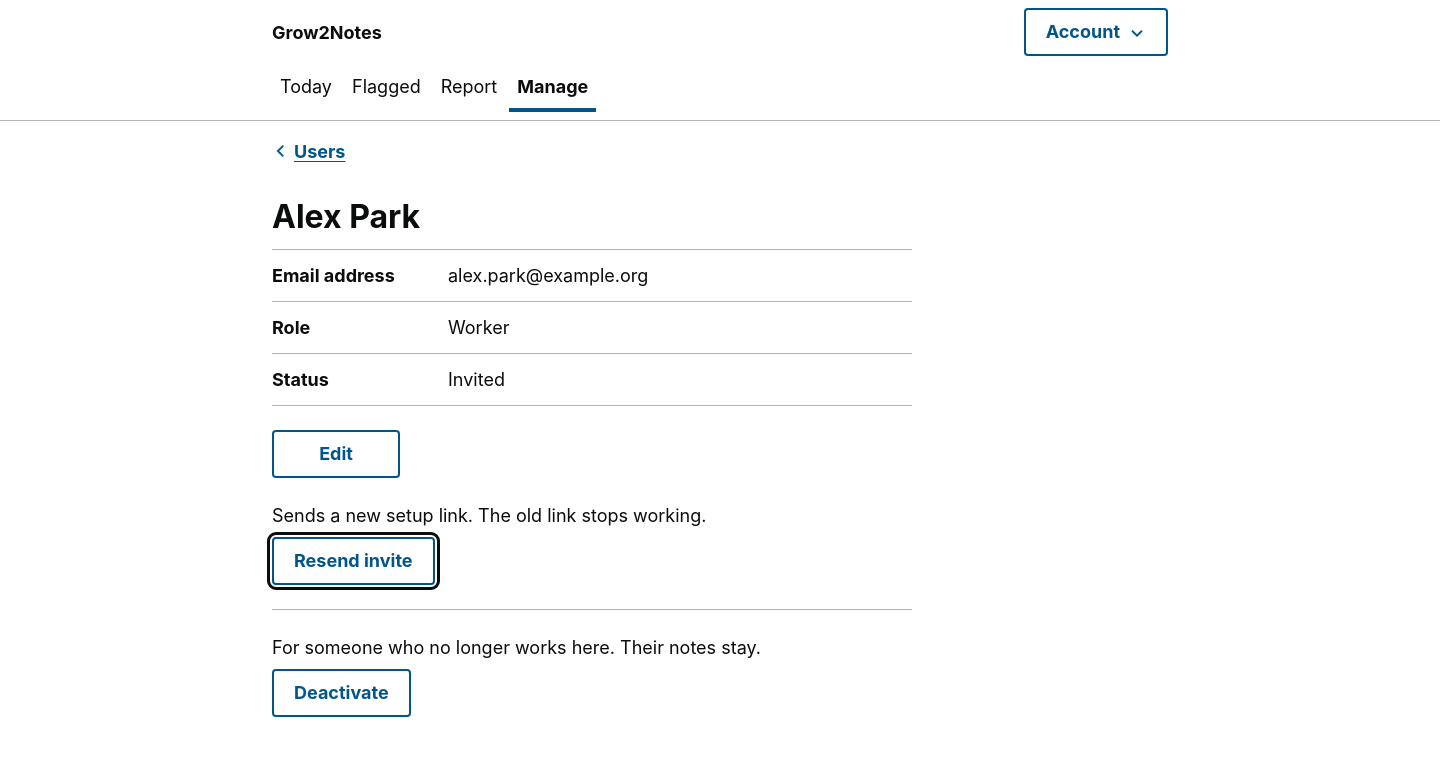
Test: Resend invite › on a 412 whose list shows Alex now Active, takes Resend invite away, focus going to the Status row
Click the button "Resend invite".
click(353, 561)  # box [272,537,434,585]
Wait 2 ms
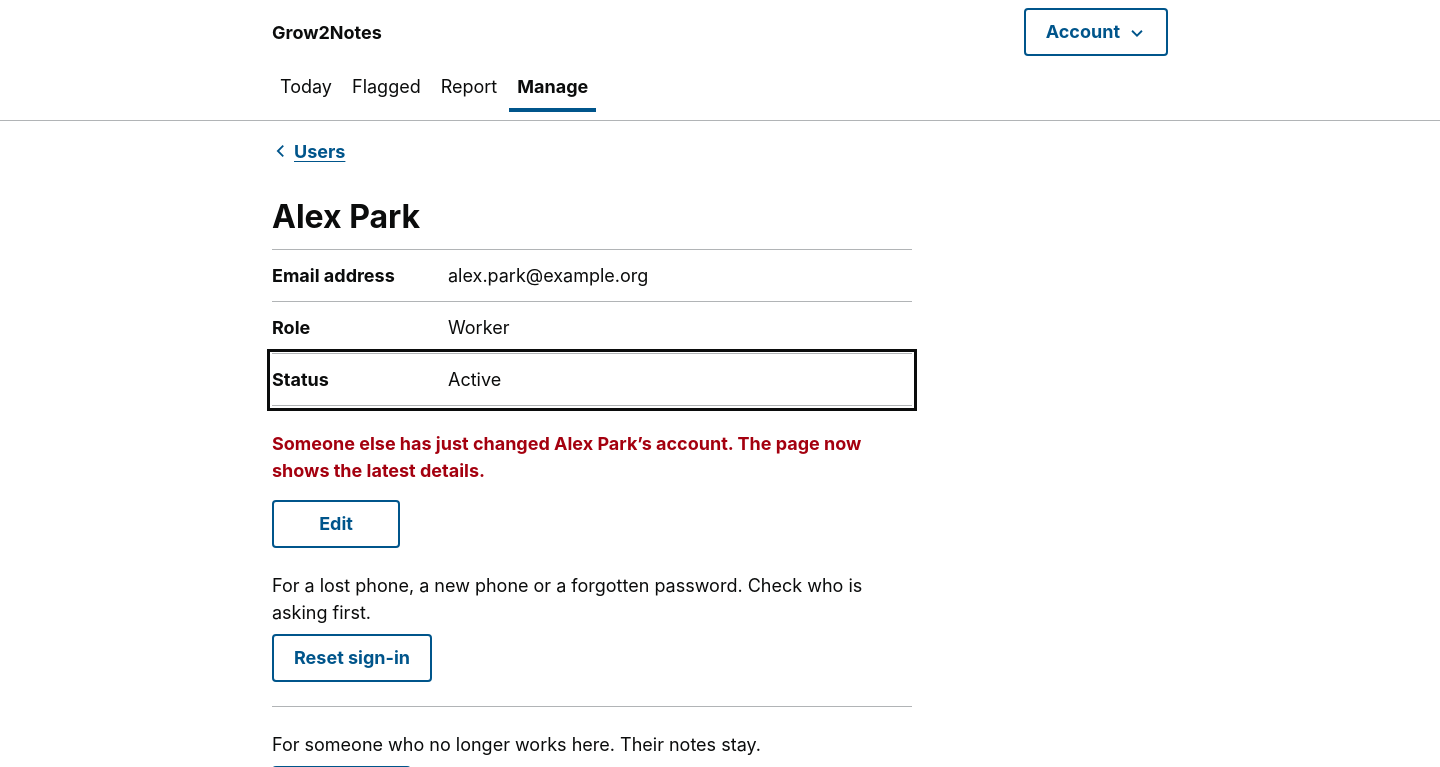
Expected: the text "Status" is shown, [272,369,329,390]
Now the message shows "Someone else has just changed Alex Park’s account. The page now shows the latest details.", box [272,433,861,481]
Now the button "Resend invite" is gone
